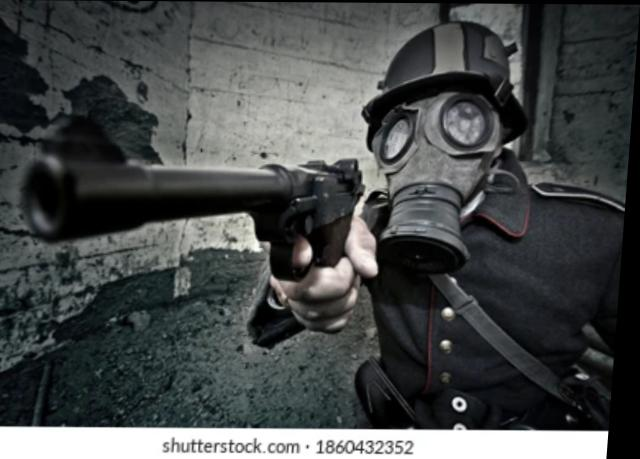other: (348, 16, 638, 429)
